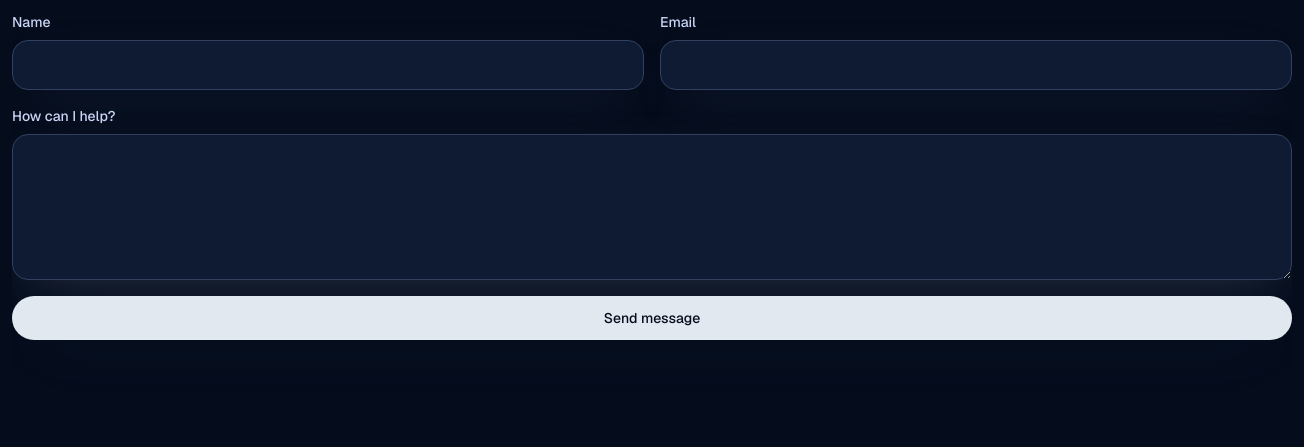
ContactForm › validates email format
The image size is (1304, 447).
In the field labelled "Email": {"x": 976, "y": 65} [660,40,1292,90], type "invalid-email"
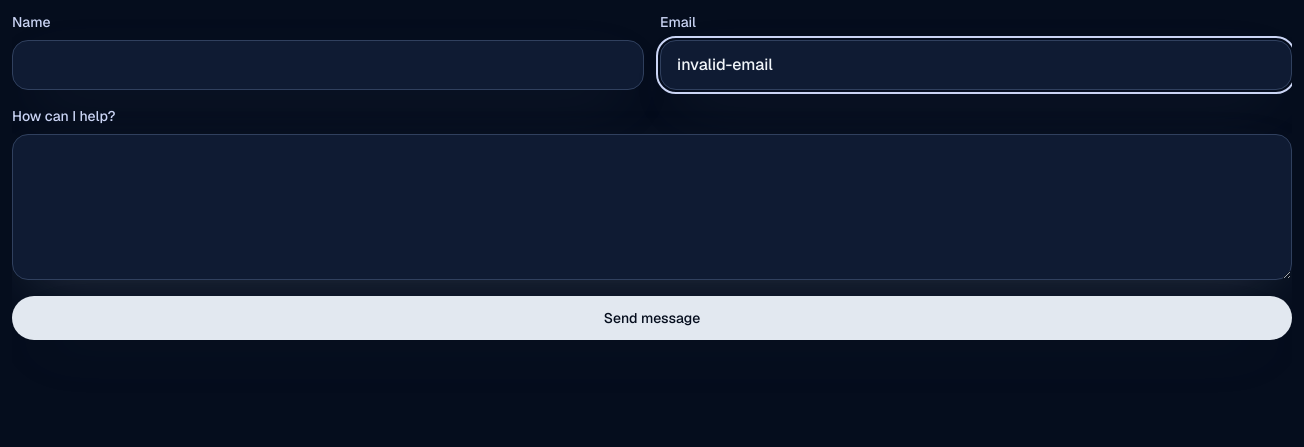
Click the button "Send message": {"x": 652, "y": 318} [12,296,1292,340]
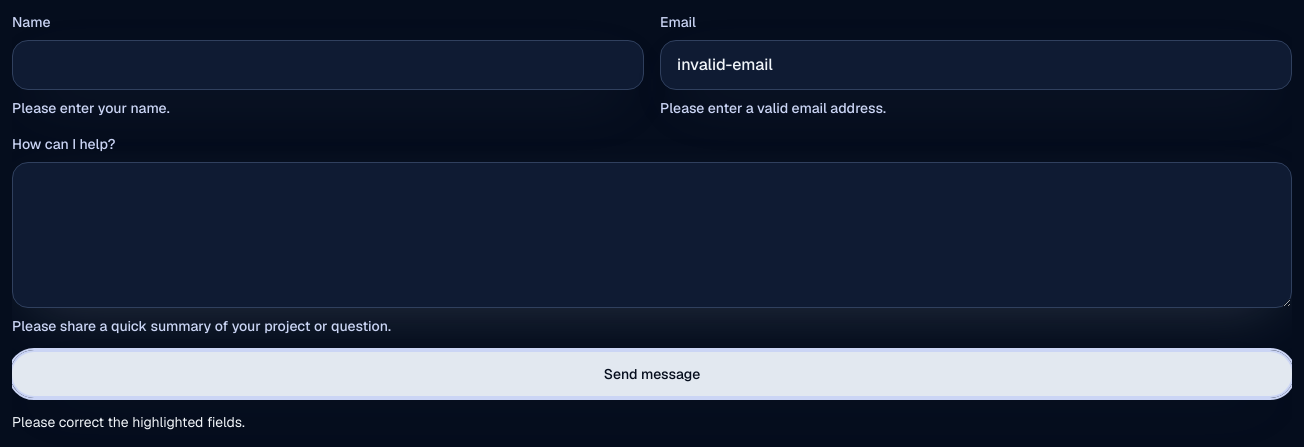
Check: the text "Please enter a valid email address." is shown, box [660,99,886,117]
